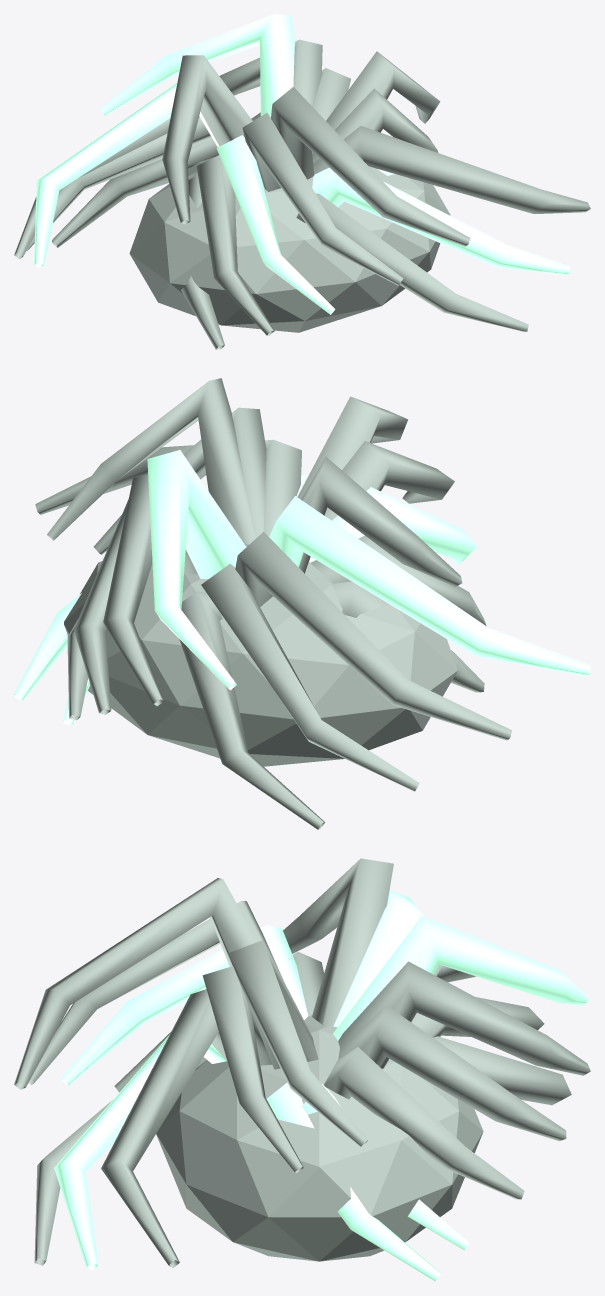
File: mycelium.glb
3 views of the same model, one above another, from view 1: azimuth 30°, elevation 25°; view 2: azimuth 150°, elevation 25°; view 3: azimuth 270°, elevation 25° (orthographic). The views are drawn at different scales.
Visible parts, largest first — view 1: Root sample, Mycelium strand.017, Mycelium strand.014, Mycelium strand.009, Mycelium strand.004, Mycelium strand.013, Mycelium strand.008, Mycelium strand.016, Mycelium strand.011, Mycelium strand.015, Mycelium strand.012, Mycelium strand.005 (+7 smaller); view 2: Root sample, Mycelium strand.008, Mycelium strand.004, Mycelium strand.007, Mycelium strand.019, Mycelium strand.006, Mycelium strand.005, Mycelium strand.003, Mycelium strand.009, Mycelium strand.017, Mycelium strand.013, Mycelium strand.002 (+7 smaller); view 3: Root sample, Mycelium strand.017, Mycelium strand.014, Mycelium strand.003, Mycelium strand.009, Mycelium strand.002, Mycelium strand.004, Mycelium strand.019, Mycelium strand.001, Mycelium strand.018, Mycelium strand.012, Mycelium strand.016 (+8 smaller).
Boxes of the visible parts, x1,y1,x2,y2 form: Root sample: [129, 157, 450, 332]; Mycelium strand.017: [313, 126, 590, 213]; Mycelium strand.014: [271, 87, 470, 246]; Mycelium strand.009: [162, 55, 252, 224]; Mycelium strand.004: [100, 14, 294, 117]; Mycelium strand.013: [242, 112, 403, 285]; Mycelium strand.008: [34, 83, 219, 268]; Mycelium strand.016: [312, 167, 570, 275]; Mycelium strand.011: [196, 155, 274, 335]; Mycelium strand.015: [296, 193, 528, 331]; Mycelium strand.012: [216, 135, 335, 314]; Mycelium strand.005: [52, 139, 218, 247]; Root sample: [64, 544, 457, 766]; Mycelium strand.008: [269, 496, 590, 676]; Mycelium strand.004: [147, 450, 246, 690]; Mycelium strand.007: [235, 531, 511, 740]; Mycelium strand.019: [47, 378, 255, 544]; Mycelium strand.006: [201, 563, 419, 791]; Mycelium strand.005: [179, 591, 324, 829]; Mycelium strand.003: [103, 474, 197, 706]; Mycelium strand.009: [298, 456, 462, 586]; Mycelium strand.017: [35, 439, 301, 536]; Mycelium strand.013: [324, 441, 454, 520]; Mycelium strand.002: [74, 499, 128, 714]; Root sample: [156, 1015, 483, 1261]; Mycelium strand.017: [101, 989, 227, 1268]; Mycelium strand.014: [14, 878, 257, 1089]; Mycelium strand.003: [338, 961, 590, 1075]; Mycelium strand.009: [283, 858, 393, 1026]; Mycelium strand.002: [338, 1005, 566, 1141]; Mycelium strand.004: [333, 916, 588, 1040]; Mycelium strand.019: [228, 940, 367, 1147]; Mycelium strand.001: [324, 1047, 524, 1199]; Mycelium strand.018: [202, 966, 303, 1172]; Mycelium strand.012: [61, 924, 308, 1085]; Mycelium strand.016: [54, 1034, 226, 1270].
Size of the model in its own units: 0.4879 by 0.2455 by 0.3863.
